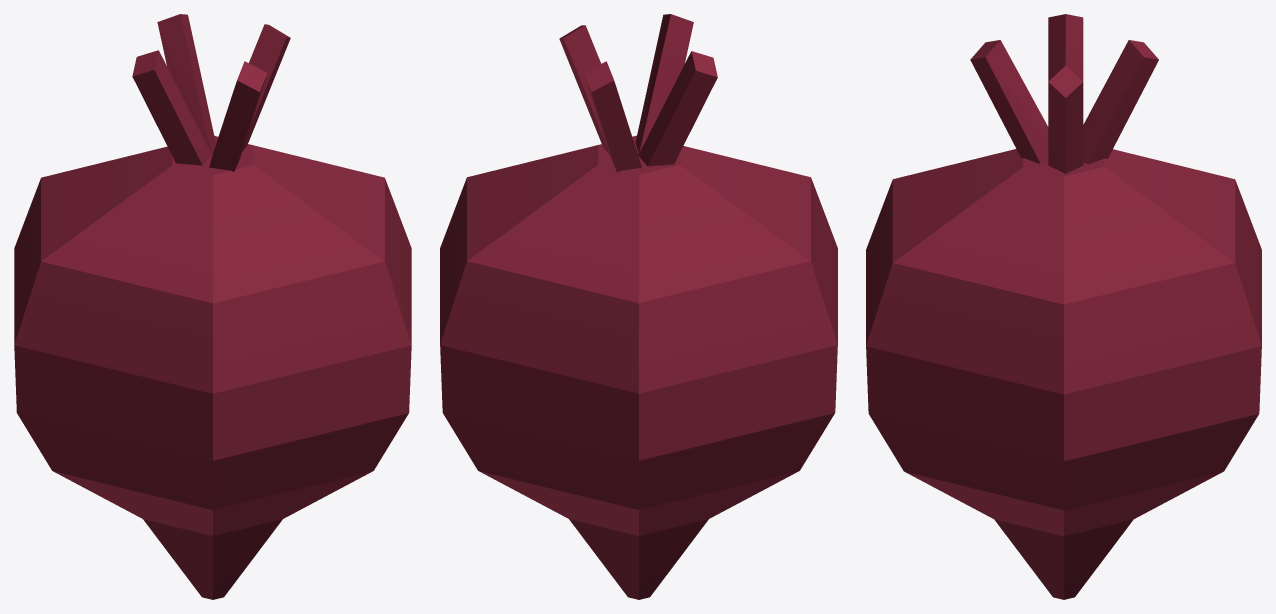
Rendered from Crop_Beetroot_02.obj.
The picture shows the model from 3 angles, left to right: view 1: azimuth 30°, elevation 25°; view 2: azimuth 150°, elevation 25°; view 3: azimuth 270°, elevation 25°; orthographic projection.
Parts seen in each view (by area): view 1: Crop_Beetroot_02; view 2: Crop_Beetroot_02; view 3: Crop_Beetroot_02.
Boxes of the visible parts, x1,y1,x2,y2 form: Crop_Beetroot_02: (14,14,411,599); Crop_Beetroot_02: (440,14,837,599); Crop_Beetroot_02: (866,14,1261,599).
Bounding box in the file's own units: 0.17 × 0.2276 × 0.1472.
Materials: 1 (1 with a texture image).
